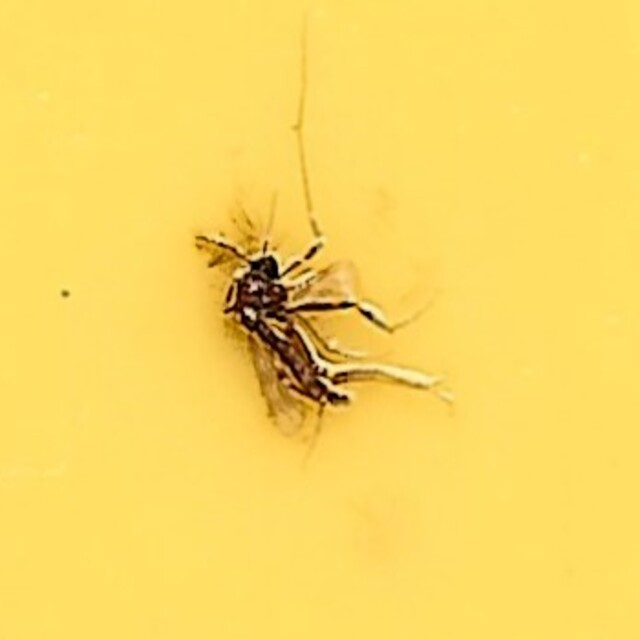Nematocera: (183, 209, 457, 431)
